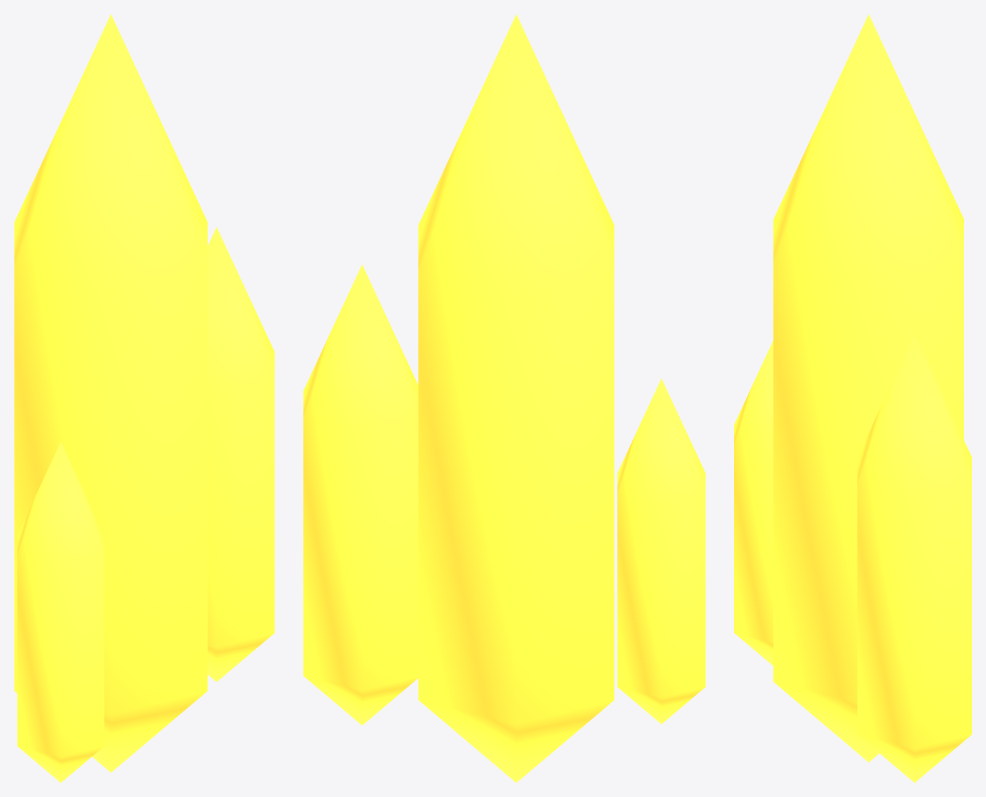
Rendered from crystal.glb.
3 renders of one model, left to right at view 1: azimuth 30°, elevation 25°; view 2: azimuth 150°, elevation 25°; view 3: azimuth 270°, elevation 25°, orthographic. The views are drawn at different scales.
Visible parts, largest first — view 1: EnergyCrystal0, EnergyCrystal1, EnergyCrystal2; view 2: EnergyCrystal0, EnergyCrystal1, EnergyCrystal2; view 3: EnergyCrystal0, EnergyCrystal1, EnergyCrystal2.
Boxes of the visible parts, bbox=[...] form: EnergyCrystal0: bbox=[14, 14, 207, 772]; EnergyCrystal1: bbox=[207, 227, 274, 681]; EnergyCrystal2: bbox=[17, 442, 104, 782]; EnergyCrystal0: bbox=[418, 14, 614, 782]; EnergyCrystal1: bbox=[303, 264, 418, 725]; EnergyCrystal2: bbox=[617, 378, 705, 723]; EnergyCrystal0: bbox=[773, 14, 963, 762]; EnergyCrystal1: bbox=[857, 334, 971, 782]; EnergyCrystal2: bbox=[734, 341, 773, 665].
Bounding box in the file's own units: 0.812 × 1.8 × 0.5182.
